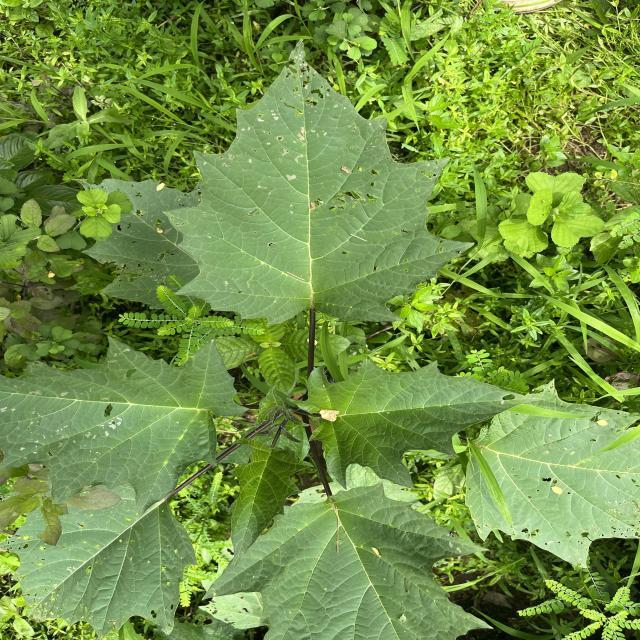Datura metal linn: (157, 34, 478, 328), (199, 479, 496, 640), (2, 334, 252, 522), (285, 355, 548, 491), (1, 479, 200, 639), (226, 436, 316, 575)
